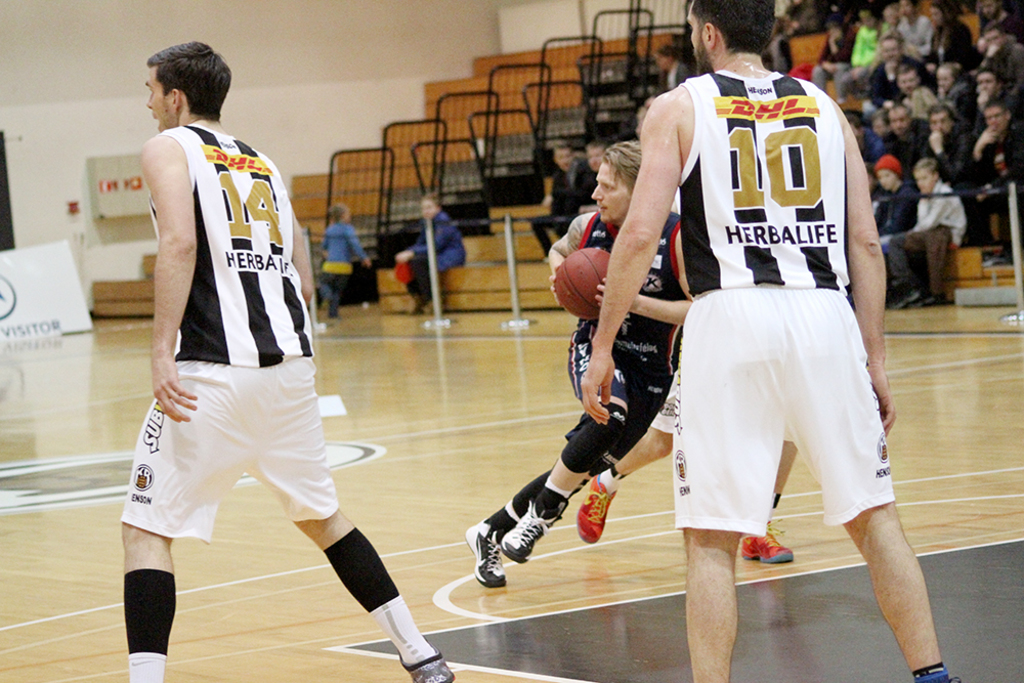Ball: (559, 249, 610, 321)
